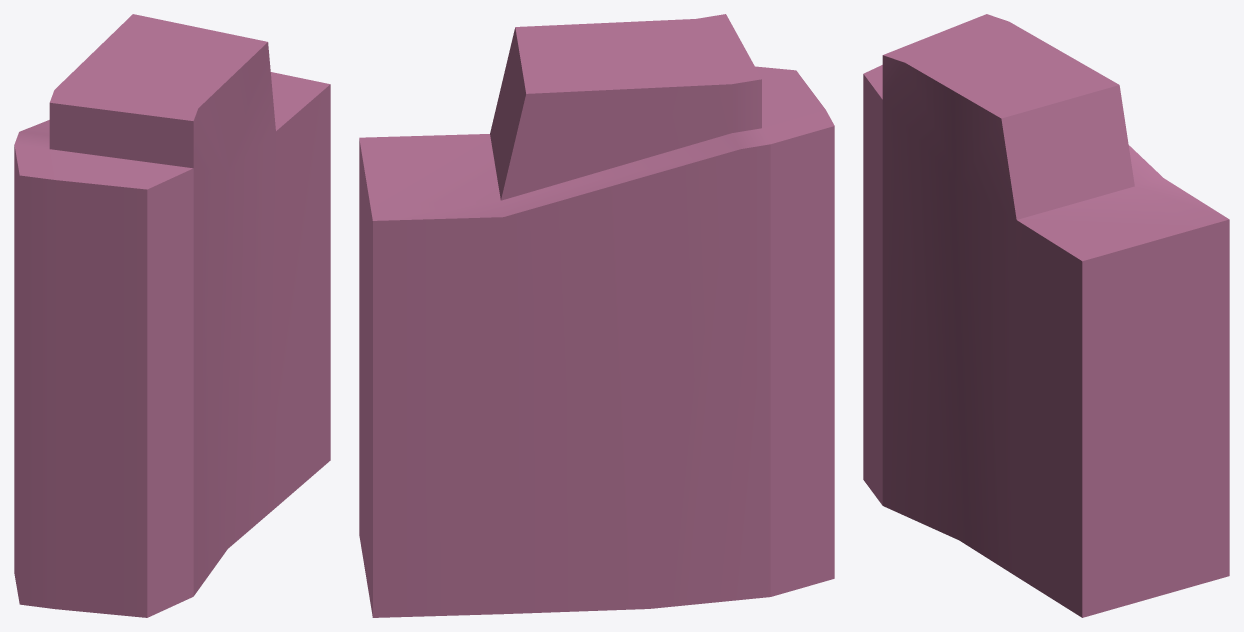
File: terrain_W3A6b.fbx
3 views of the same model, side by side, from view 1: azimuth 30°, elevation 25°; view 2: azimuth 150°, elevation 25°; view 3: azimuth 270°, elevation 25° (orthographic). The views are drawn at different scales.
Parts seen in each view (by area): view 1: W3A6_b; view 2: W3A6_b; view 3: W3A6_b.
Boxes of the visible parts, x1,y1,x2,y2 form: W3A6_b: (14,14,330,617); W3A6_b: (359,14,834,617); W3A6_b: (863,14,1229,617).
Bounding box in the file's own units: 5960 × 7113 × 5237.
